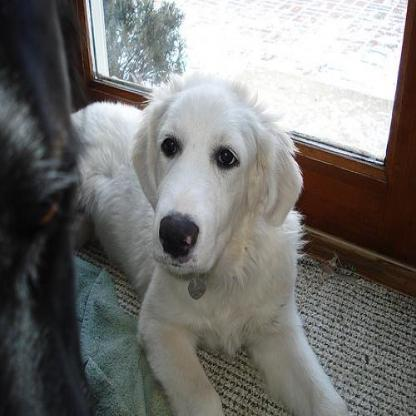Great_Pyrenees: (67, 74, 350, 414)
